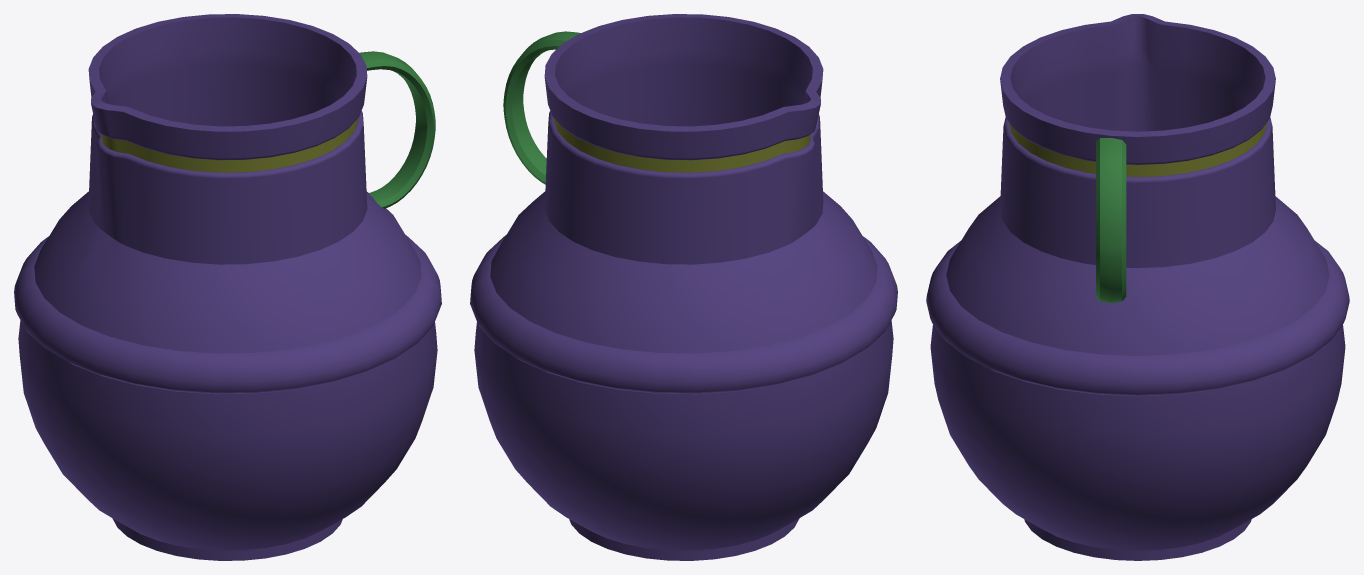
File: Jug_Style_01.fbx
The picture shows the model from 3 angles, left to right: view 1: azimuth 30°, elevation 25°; view 2: azimuth 150°, elevation 25°; view 3: azimuth 270°, elevation 25°; orthographic projection.
Visible parts, largest first — view 1: SetA_Jug_Style_01; view 2: SetA_Jug_Style_01; view 3: SetA_Jug_Style_01.
Boxes of the visible parts, bbox=[...] form: SetA_Jug_Style_01: bbox=[14, 14, 441, 560]; SetA_Jug_Style_01: bbox=[470, 14, 897, 560]; SetA_Jug_Style_01: bbox=[926, 14, 1349, 560].
Size of the model in its own units: 0.2398 by 0.2687 by 0.2369.
